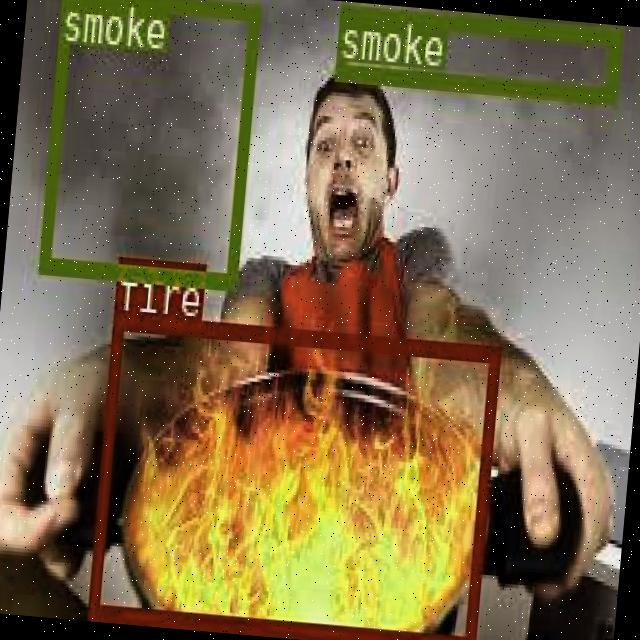fire: (85, 309, 497, 640)
smoke: (37, 0, 257, 286), (334, 3, 619, 100)
